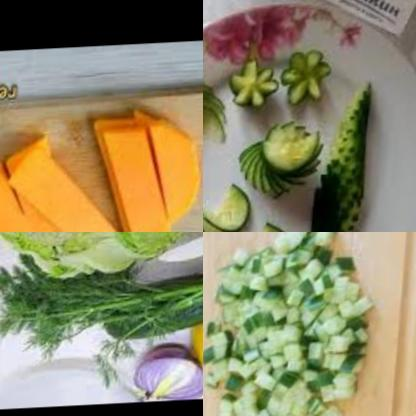cucumber: (203, 232, 393, 416), (296, 73, 386, 232), (112, 232, 203, 346), (226, 42, 340, 126), (235, 110, 332, 208), (203, 189, 267, 232), (203, 64, 237, 139)
onion: (137, 346, 203, 406)
pumpkin: (84, 111, 191, 232), (0, 142, 129, 232), (133, 105, 203, 232), (0, 157, 67, 232)
salad: (0, 232, 203, 295)
